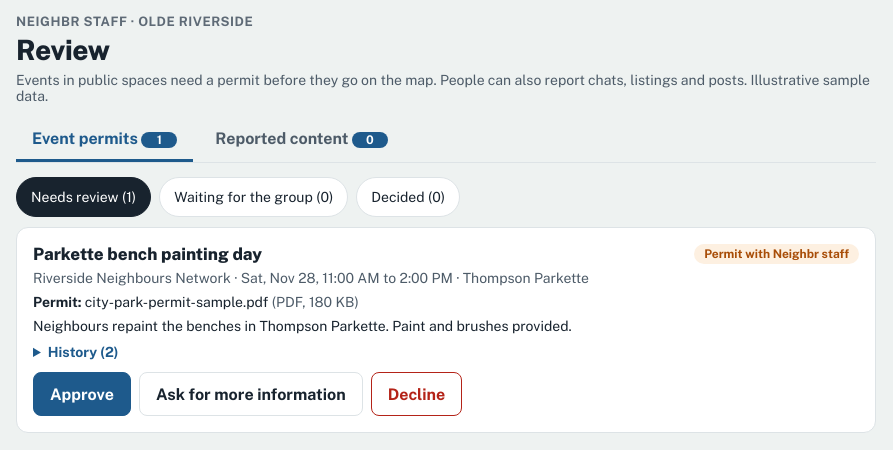
reported content › says so when nothing is waiting
Expected: the heading "Review" is shown, 16,33 -> 110,66
Click the tab "Reported content 0". click: [302, 140]
box: 199,118 -> 404,162
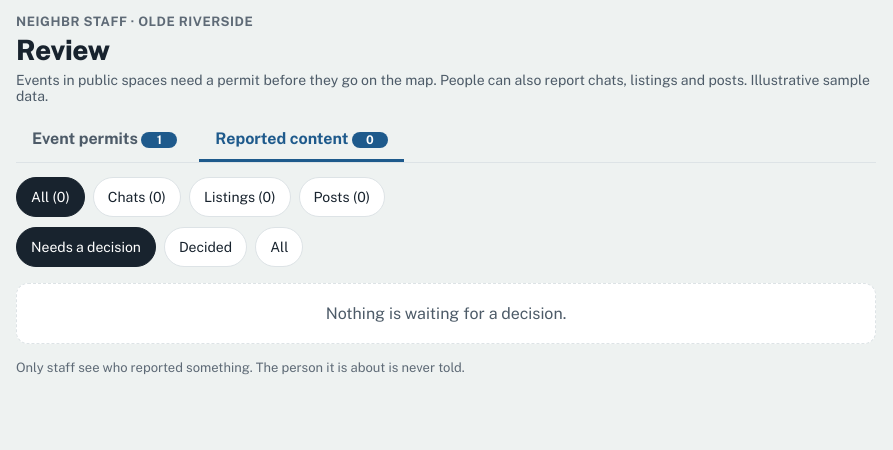
Expected: the text "Nothing is waiting for a decision." is shown, 16,283 -> 876,344
